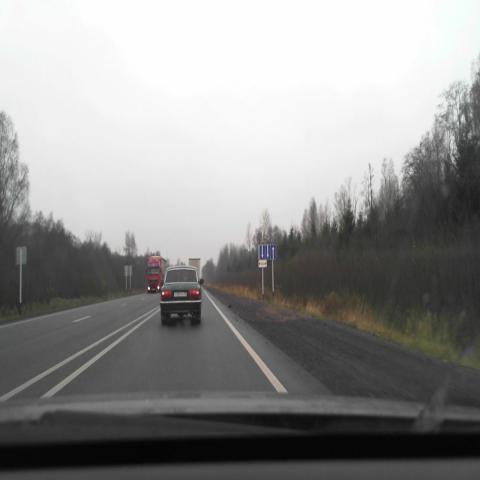5_15_7: (260, 245, 276, 260)
